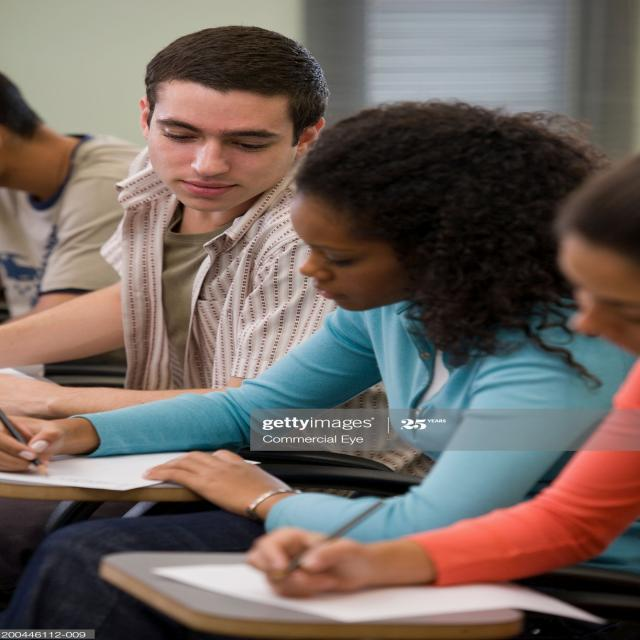cheating: (110, 10, 319, 381)
good: (296, 90, 606, 410)
